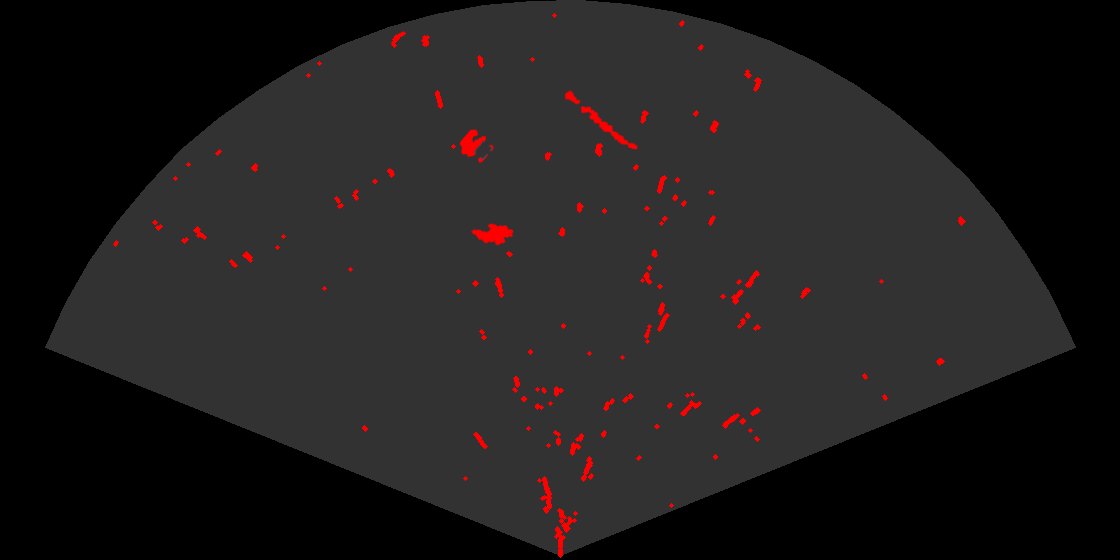AUV: (469, 222, 515, 247)
ball: (458, 128, 495, 164)
chain: (563, 89, 639, 151)
